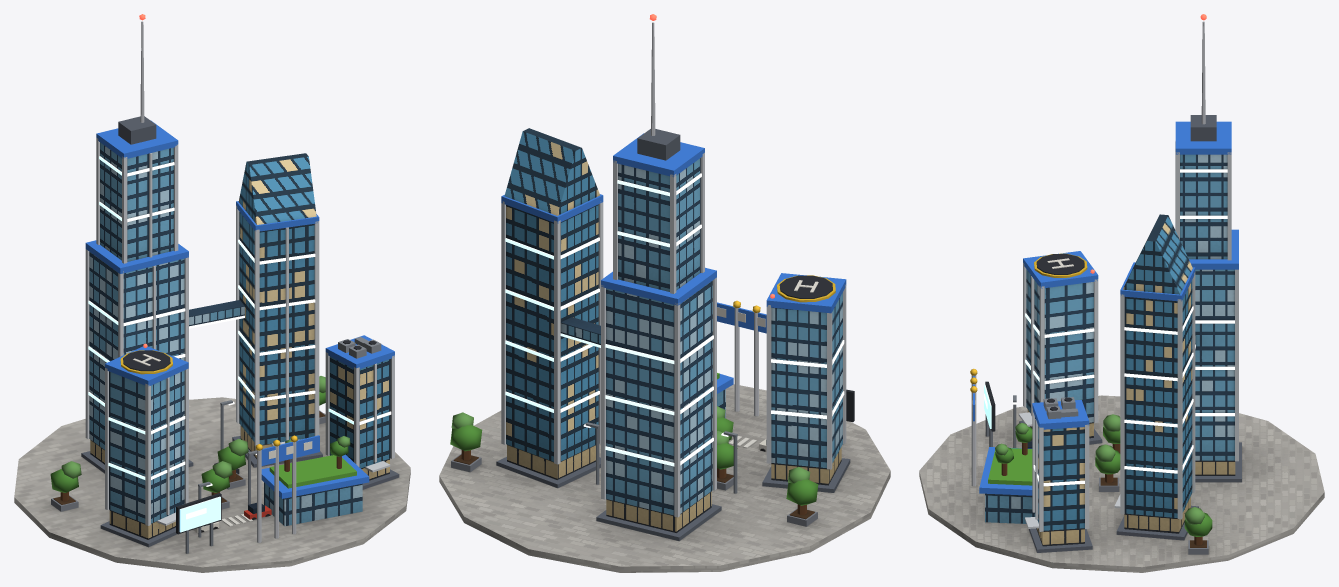
The model's file is city_dl7_blue.glb.
3 views of the same model, side by side, from view 1: azimuth 30°, elevation 25°; view 2: azimuth 150°, elevation 25°; view 3: azimuth 270°, elevation 25° (orthographic). The views are drawn at different scales.
Parts seen in each view (by area): view 1: city_dl7_blue; view 2: city_dl7_blue; view 3: city_dl7_blue.
Part boxes in pixels (x1,y1,x2,y2): city_dl7_blue: [14, 14, 410, 572]; city_dl7_blue: [439, 14, 890, 572]; city_dl7_blue: [919, 14, 1324, 572].
Size of the model in its own units: 1.59 by 1.98 by 1.59.
6 materials, 1 textured.
